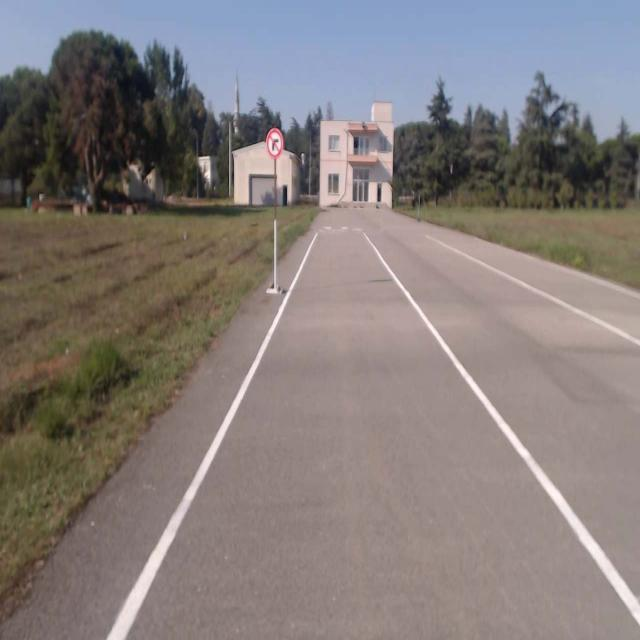sagadonulmez: (266, 128, 283, 158)
